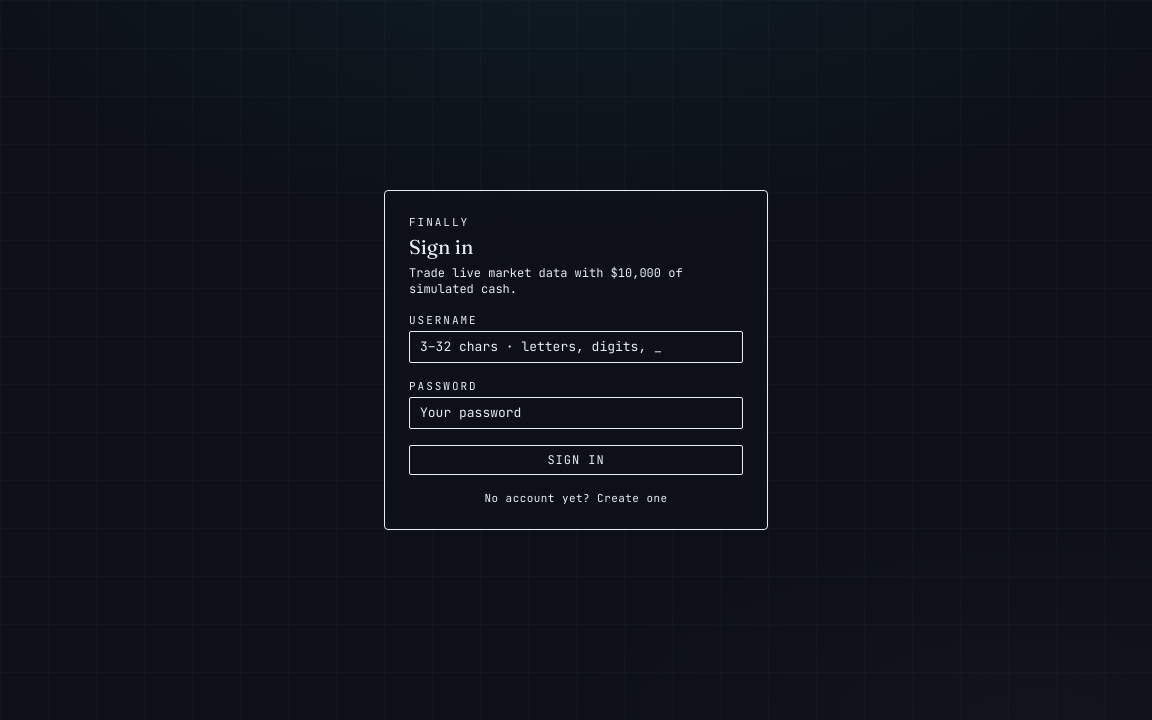
LoginForm (via AuthGate) › surfaces username_taken with a friendly label on 409
The width and height of the screenshot is (1152, 720).
Expected: the element with test id "login-form" is shown, x1=384 y1=190 x2=768 y2=530
Click the button with test id "auth-toggle-mode" at coordinates (576, 498), box x1=409 y1=491 x2=743 y2=505
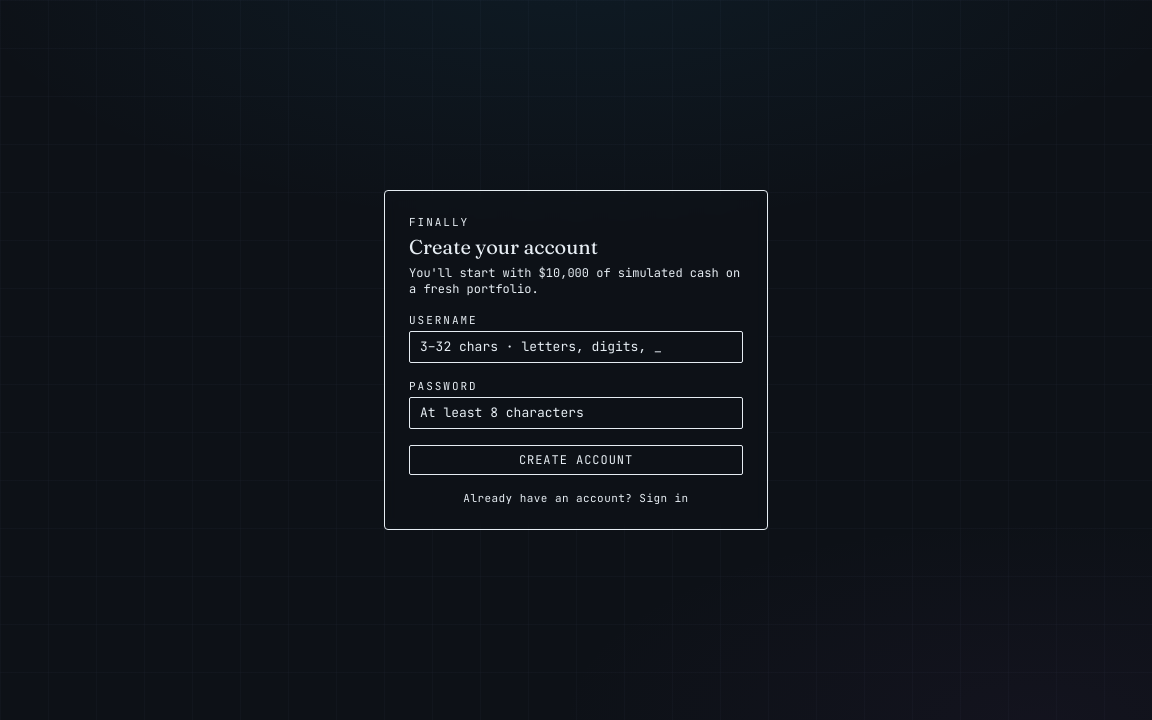
Type "taken" into the field with test id "auth-username" at coordinates (576, 347), box x1=409 y1=331 x2=743 y2=363
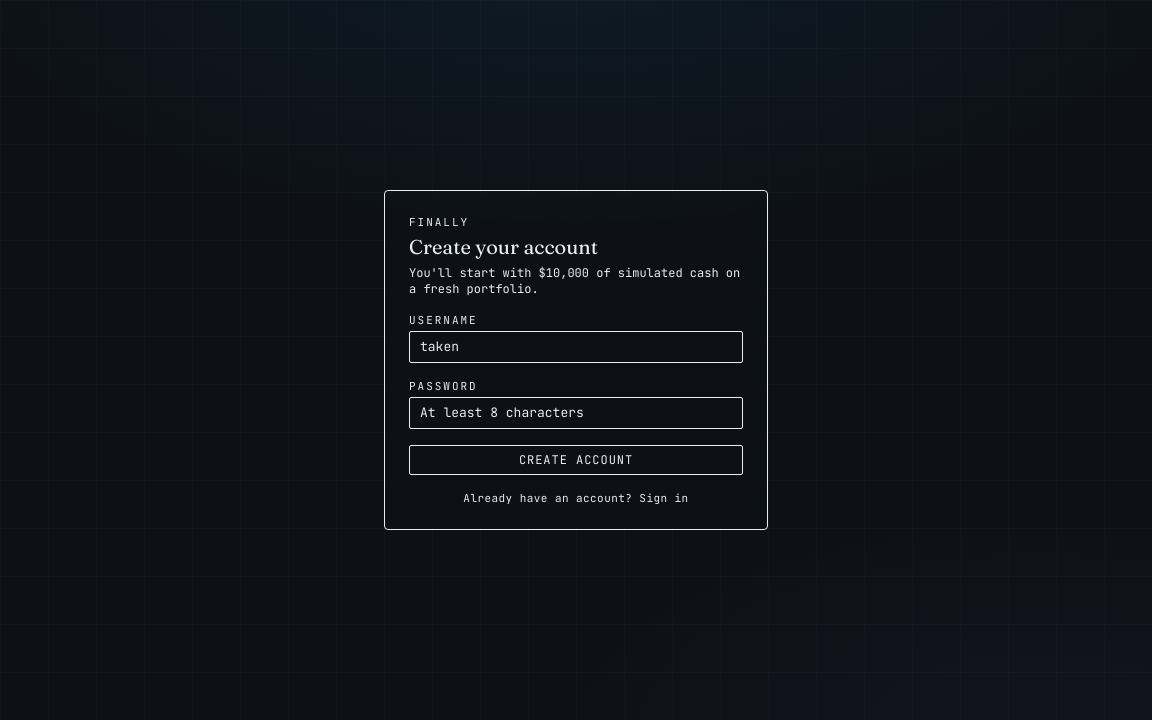
Type "supersecret" into the password field with test id "auth-password" at coordinates (576, 413), box x1=409 y1=397 x2=743 y2=429
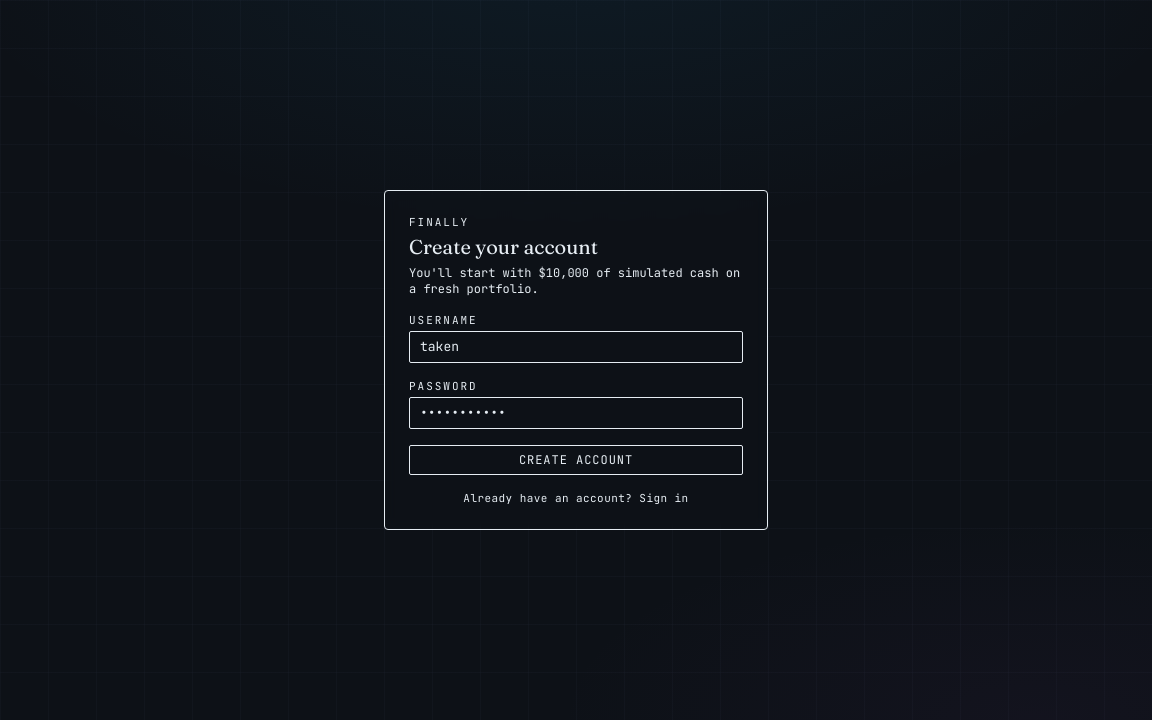
Click the button with test id "auth-submit" at coordinates (576, 460), box x1=409 y1=445 x2=743 y2=475
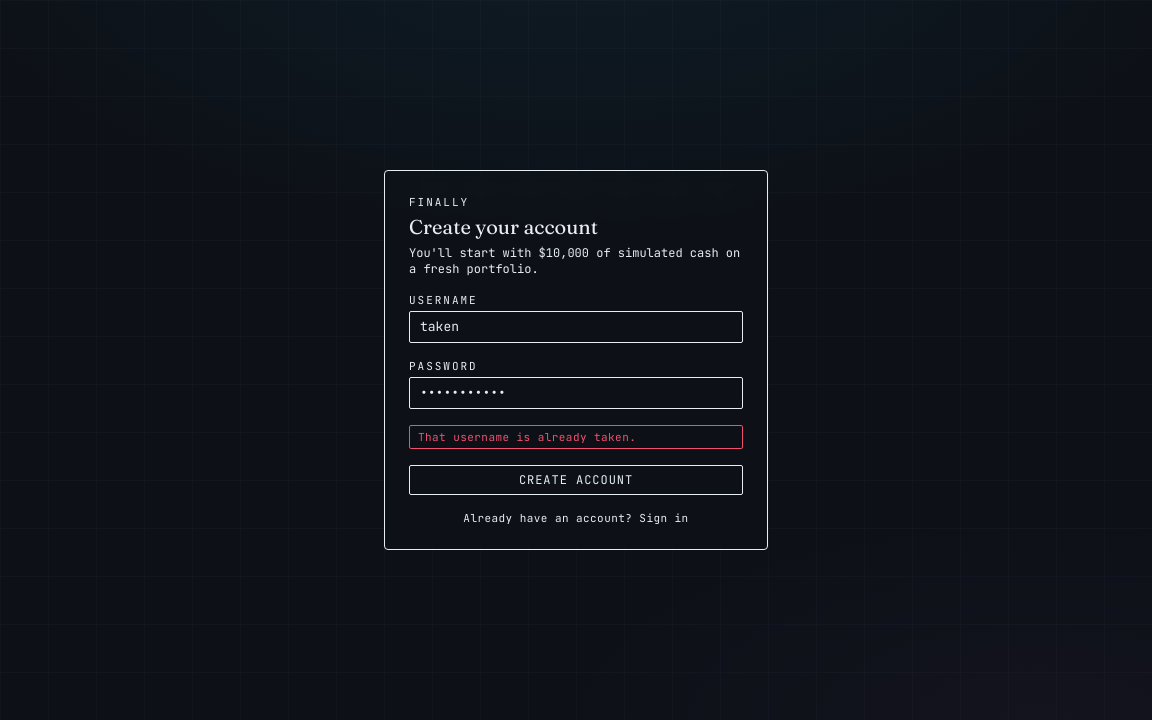
Now the message with test id "auth-error" shows "already taken", box x1=418 y1=430 x2=636 y2=444
